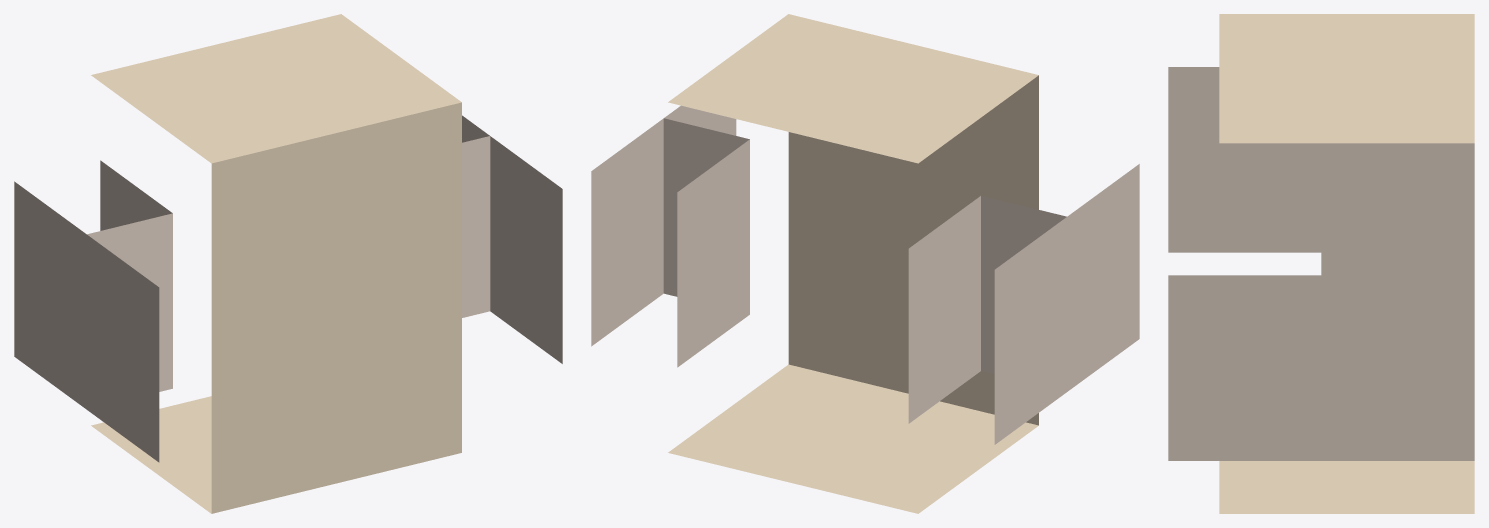
3 views of the same model, side by side, from view 1: azimuth 30°, elevation 25°; view 2: azimuth 150°, elevation 25°; view 3: azimuth 270°, elevation 25° (orthographic). The views are drawn at different scales.
Visible parts, largest first — view 1: Cube, Cube.001; view 2: Cube, Cube.001; view 3: Cube.001, Cube.
Boxes of the visible parts, <box> form: Cube: <box>91,14,461,513</box>; Cube.001: <box>14,115,562,462</box>; Cube: <box>668,14,1038,513</box>; Cube.001: <box>591,105,1139,444</box>; Cube.001: <box>1168,67,1474,460</box>; Cube: <box>1219,14,1474,513</box>.
Bounding box in the file's own units: 1.93 × 1.6 × 1.2.
